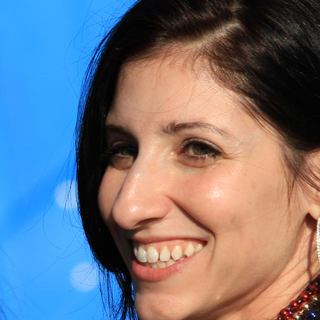eye: (166, 133, 224, 166), (101, 138, 146, 168)
